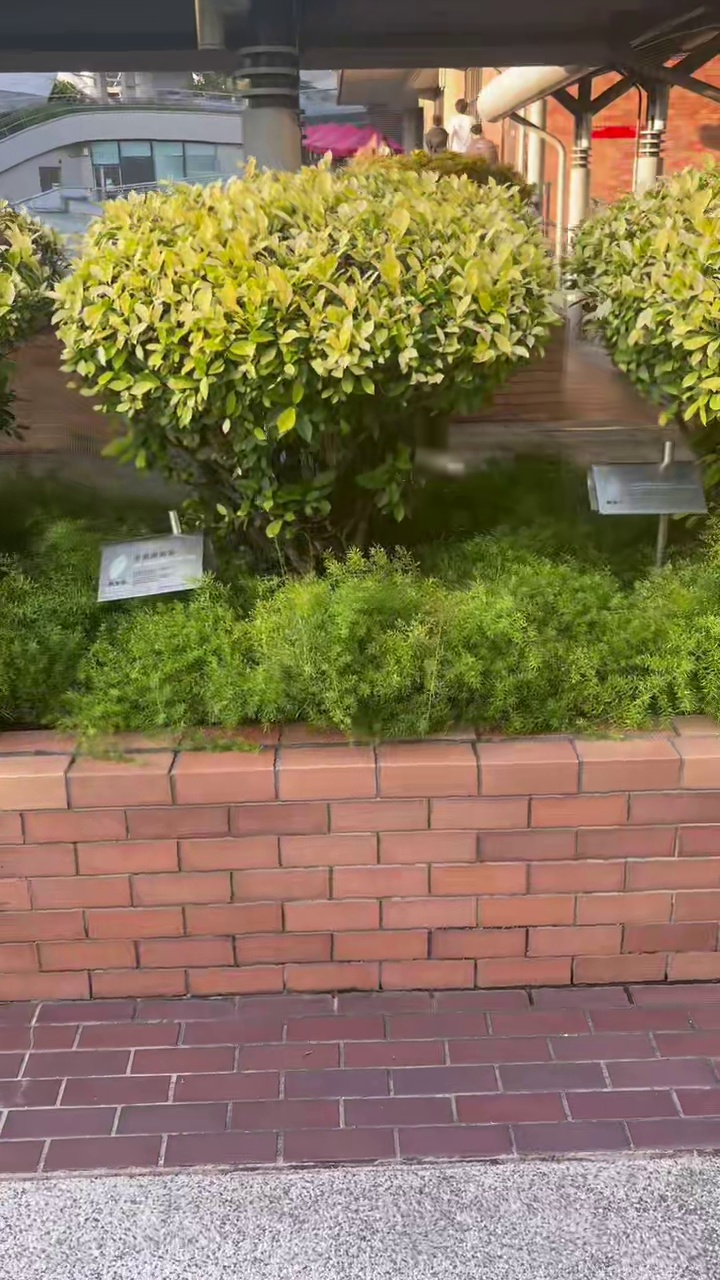Golden-leaves Fig: (54, 161, 554, 568)
